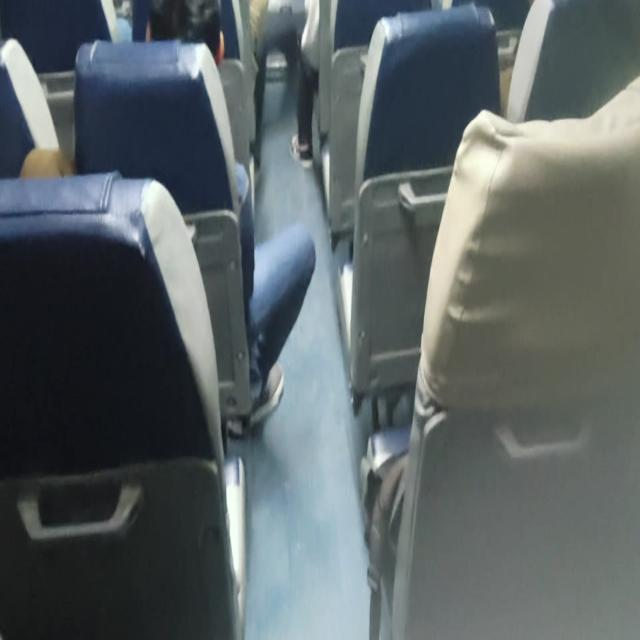person: (121, 0, 229, 93)
